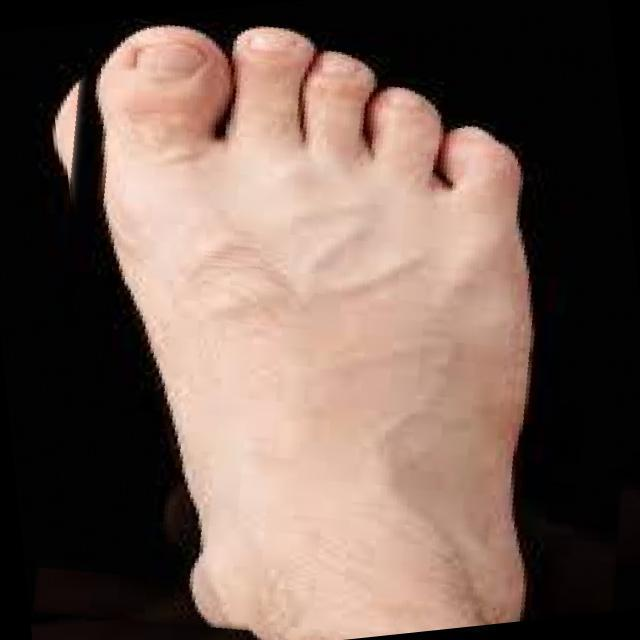No_Shoes: (75, 16, 572, 640)
